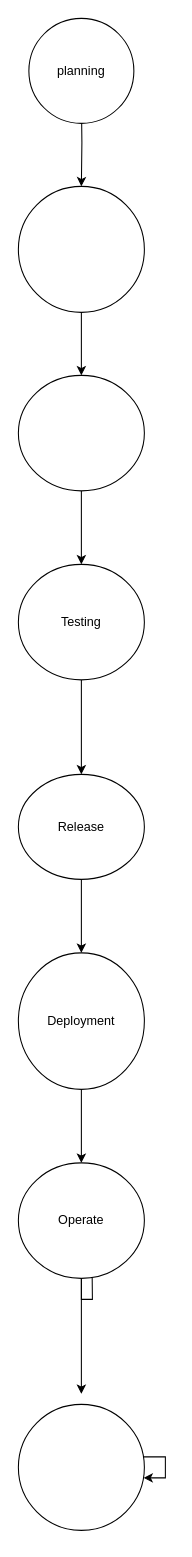
This 192x1557 diagram has some shape labels left out. The centre of each missing label's shape, as x and y in pixels:
Build: the point at 80,432
Devop: the point at 80,248
